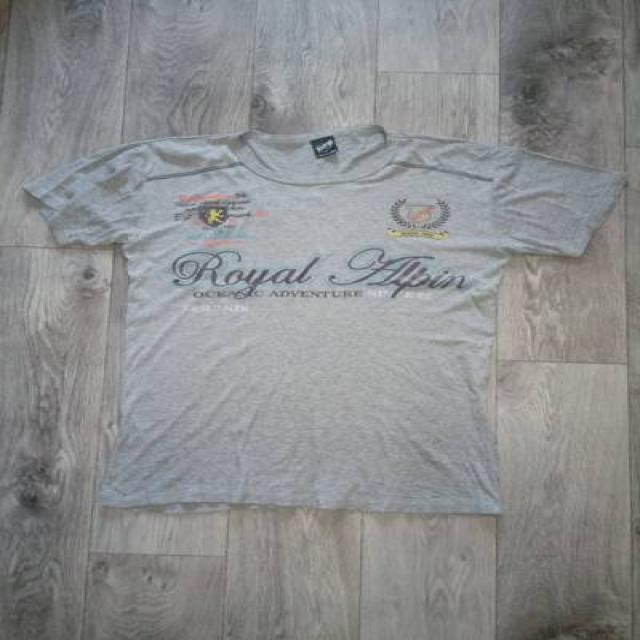shirt: (23, 124, 630, 512)
